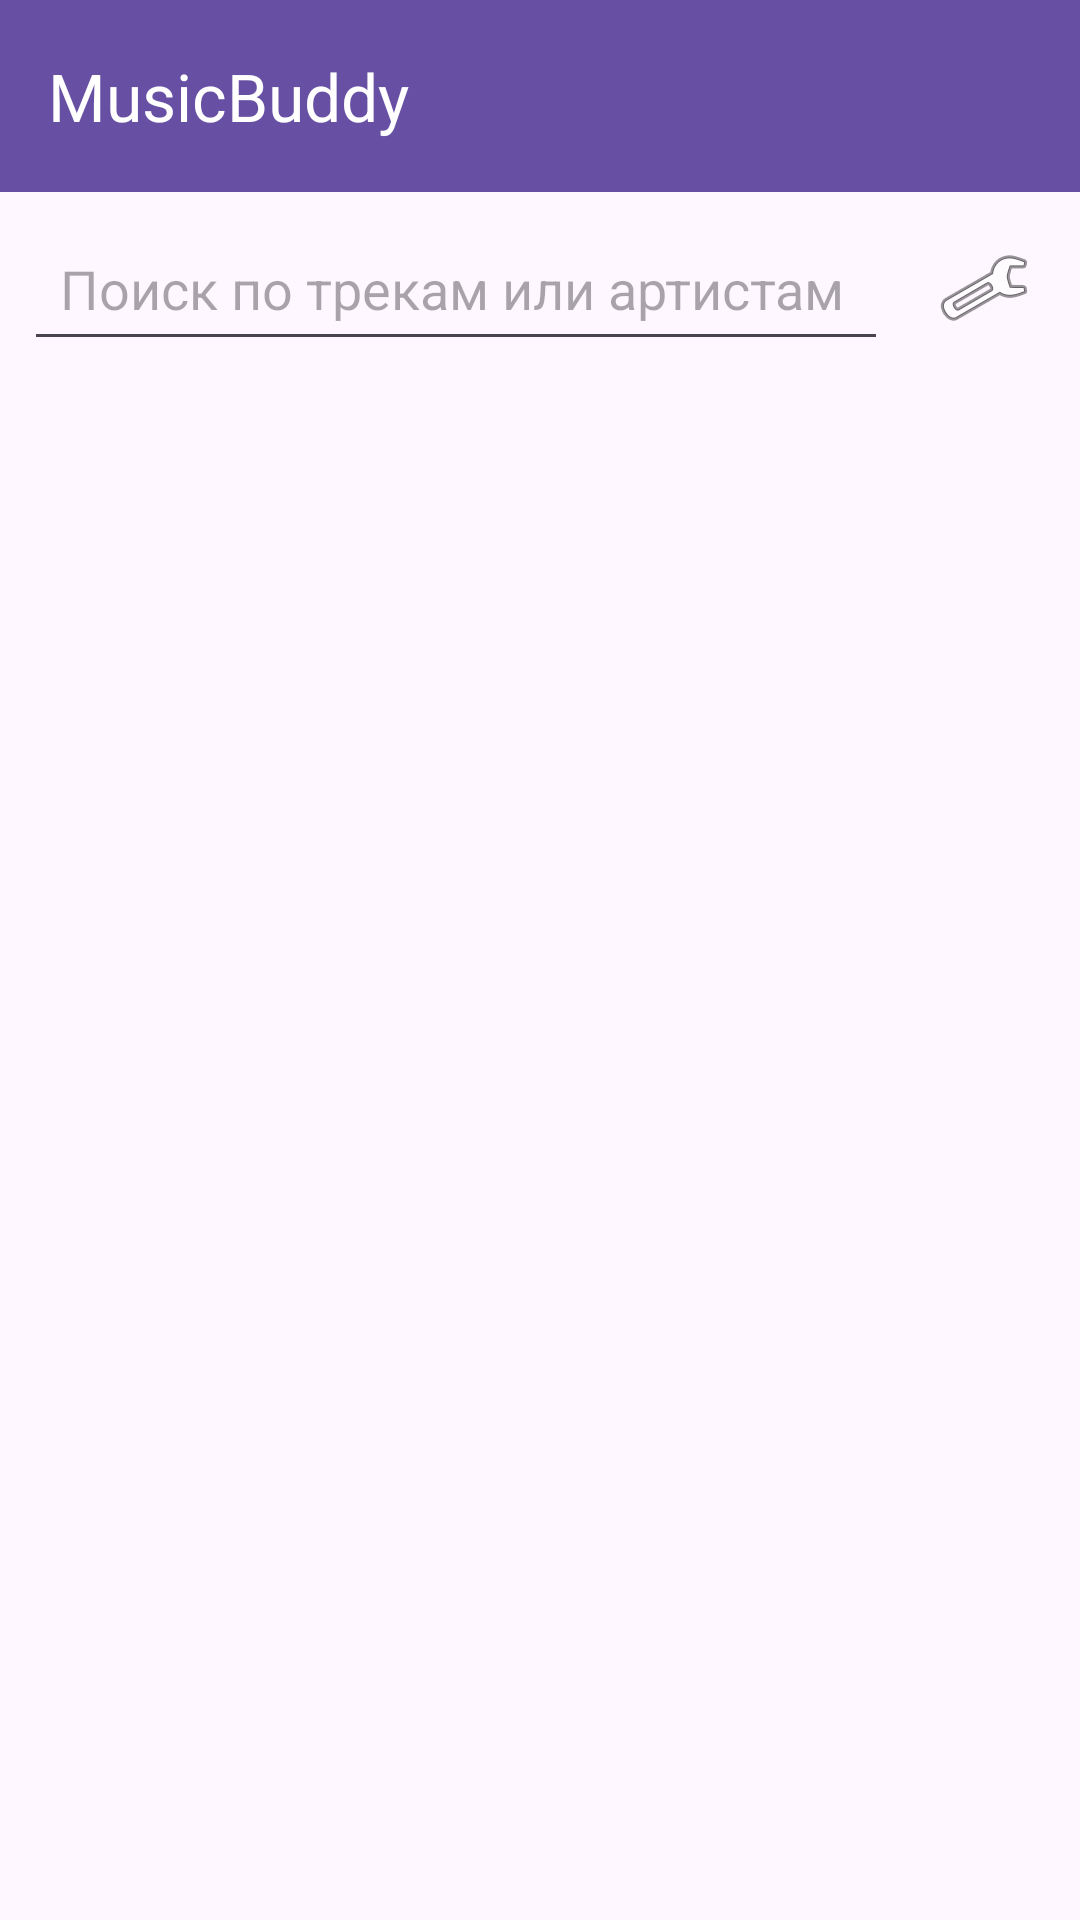

Point at icon controls on the screen. Image size 1080×1920, points as (x,y).
Настройки: (984,288)
